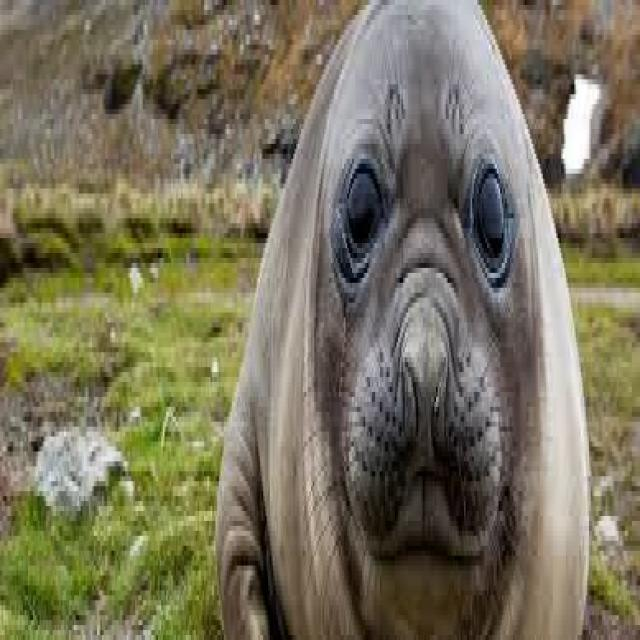seal: (216, 0, 589, 635)
